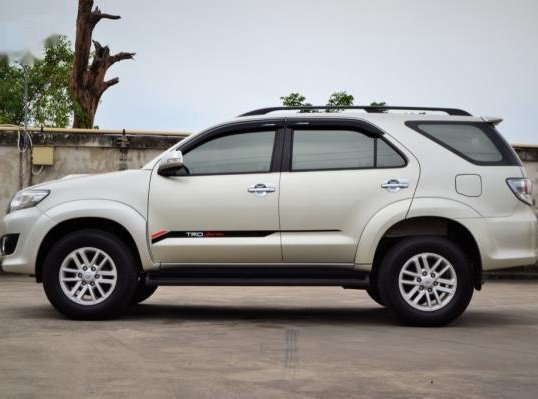pickup: (2, 104, 538, 326)
